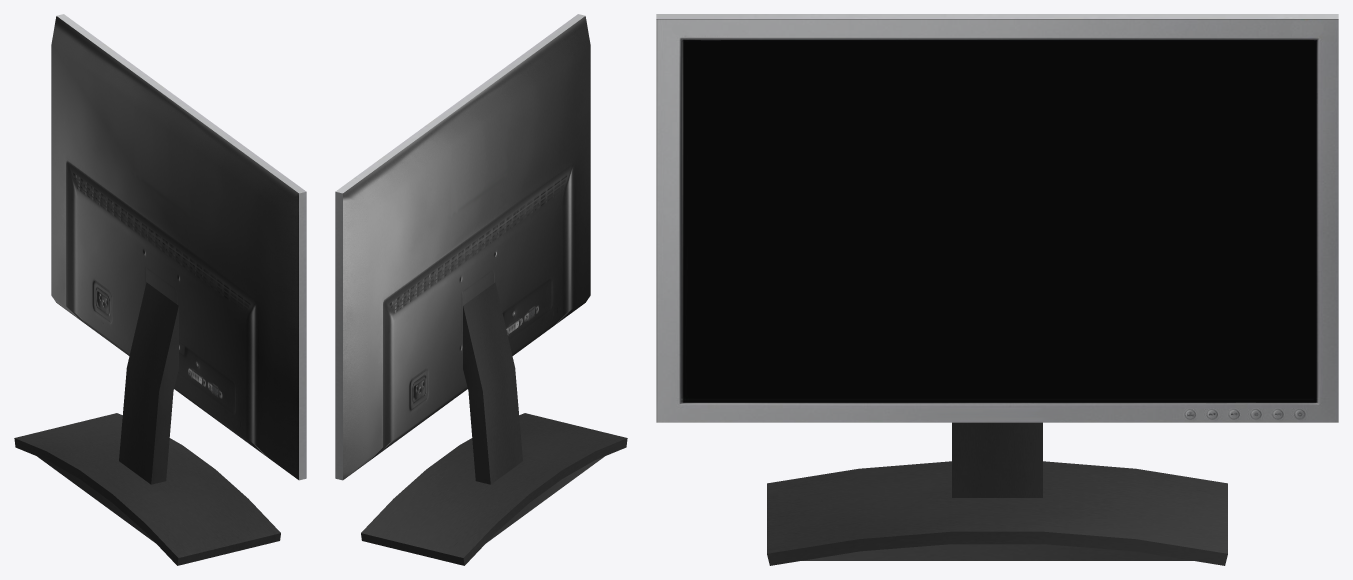
File: Monitor04.FBX
3 views of the same model, side by side, from view 1: azimuth 30°, elevation 25°; view 2: azimuth 150°, elevation 25°; view 3: azimuth 270°, elevation 25° (orthographic). The views are drawn at different scales.
Parts seen in each view (by area): view 1: Monitor04; view 2: Monitor04; view 3: Monitor04.
Part boxes in pixels (x1,y1,x2,y2): Monitor04: [14, 14, 306, 565]; Monitor04: [335, 14, 627, 565]; Monitor04: [656, 14, 1338, 565].
Bounding box in the file's own units: 4.07 × 14.48 × 16.67.
